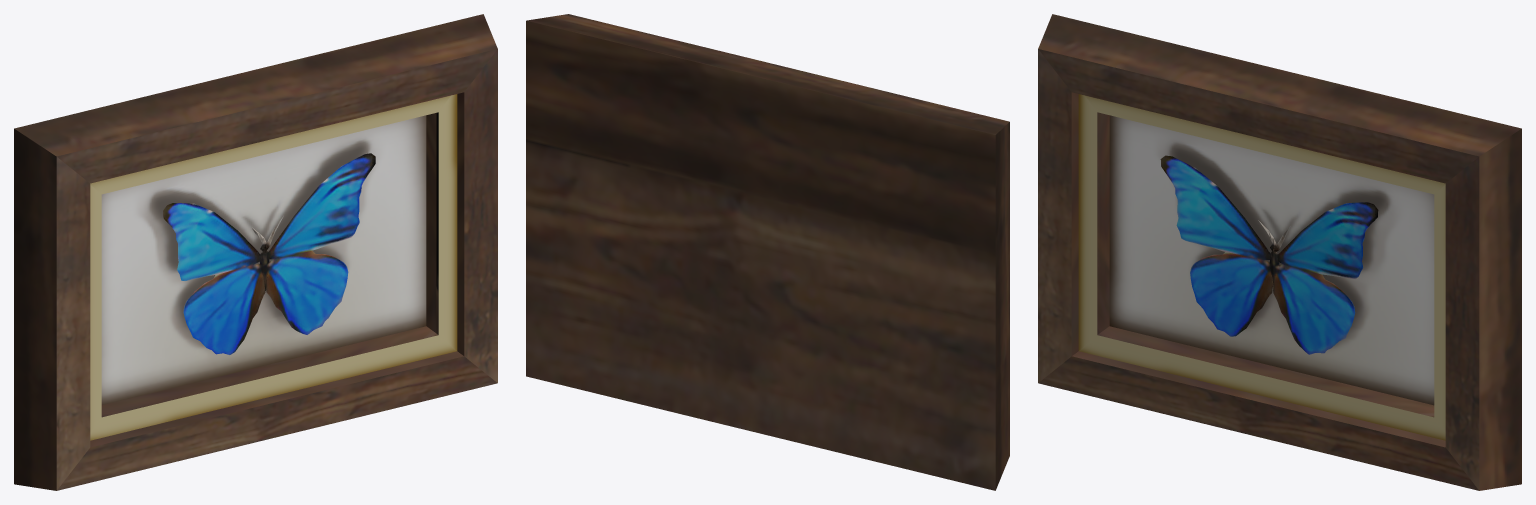
Rendered from MorphoFrameBlue_HD.fbx.
3 renders of one model, left to right at view 1: azimuth 30°, elevation 25°; view 2: azimuth 150°, elevation 25°; view 3: azimuth 330°, elevation 25°, orthographic.
Parts seen in each view (by area): view 1: MorphoFrameBlue, Plane; view 2: MorphoFrameBlue; view 3: MorphoFrameBlue, Plane.
Part boxes in pixels (left/top/right/bottom): MorphoFrameBlue: left=14, top=14, right=497, bottom=490; Plane: left=163, top=153, right=375, bottom=354; MorphoFrameBlue: left=526, top=14, right=1009, bottom=490; MorphoFrameBlue: left=1038, top=14, right=1521, bottom=490; Plane: left=1160, top=155, right=1378, bottom=354.
Size of the model in its own units: 0.9941 by 0.72 by 0.1039.
